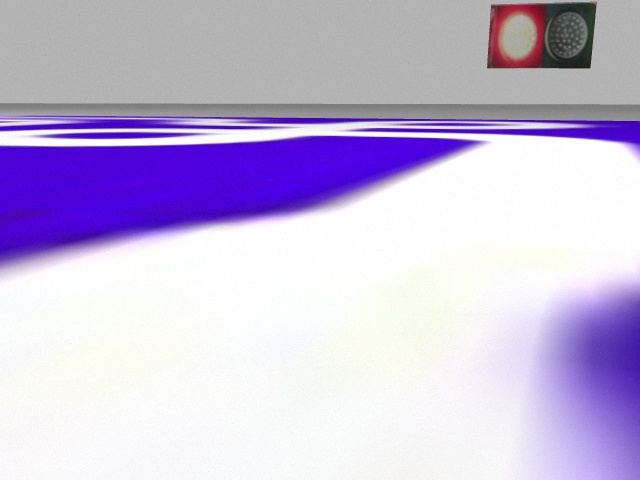red: (491, 1, 545, 67)
